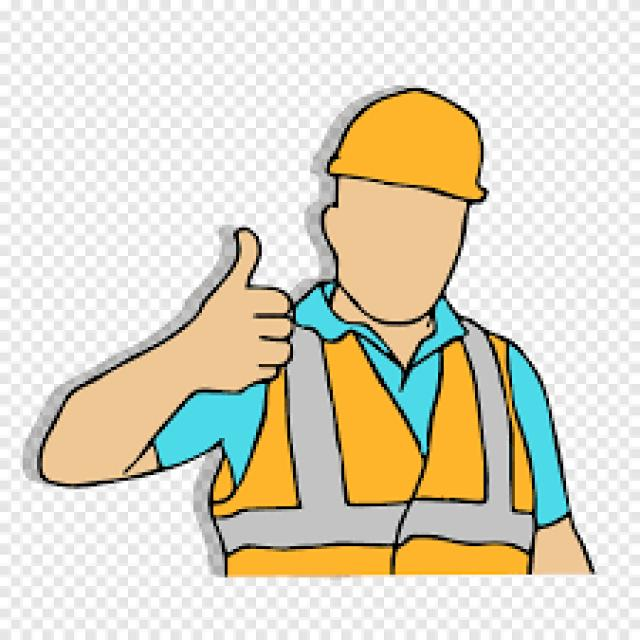Reflective-Jacket: (28, 284, 554, 589)
Safety-Helmet: (324, 85, 490, 205)
